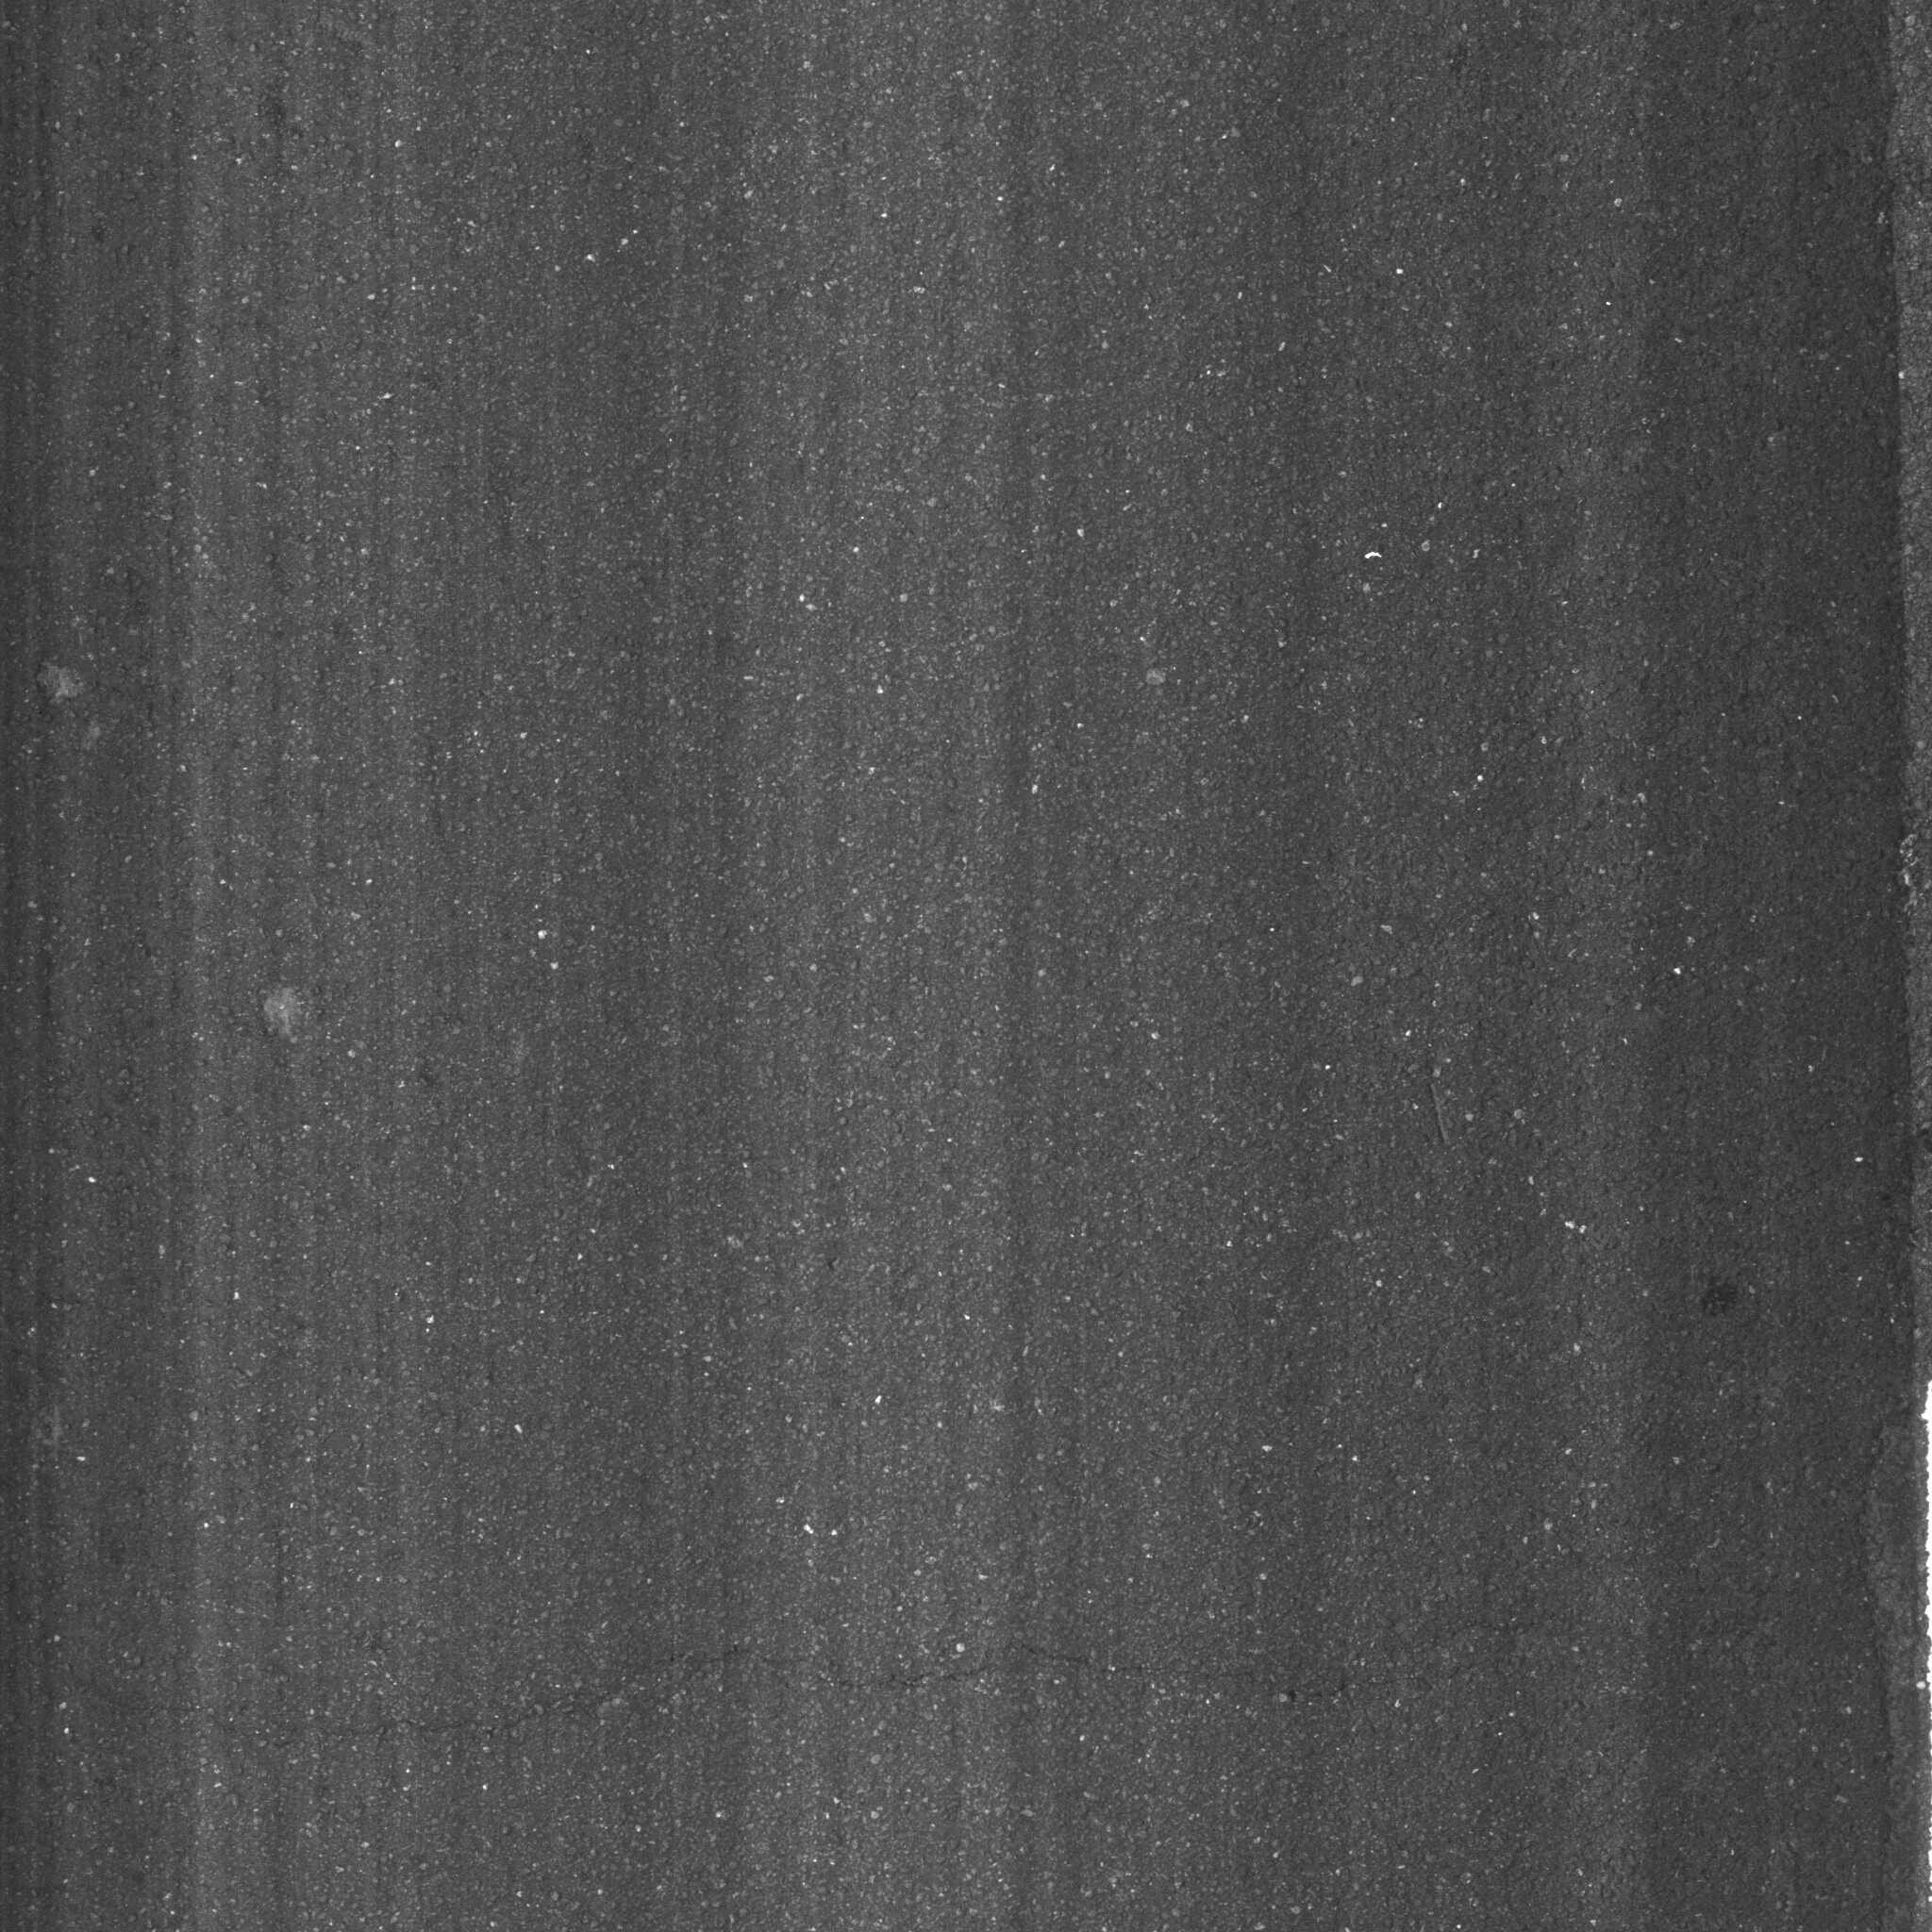transverse: (35, 1622, 1874, 1775)
